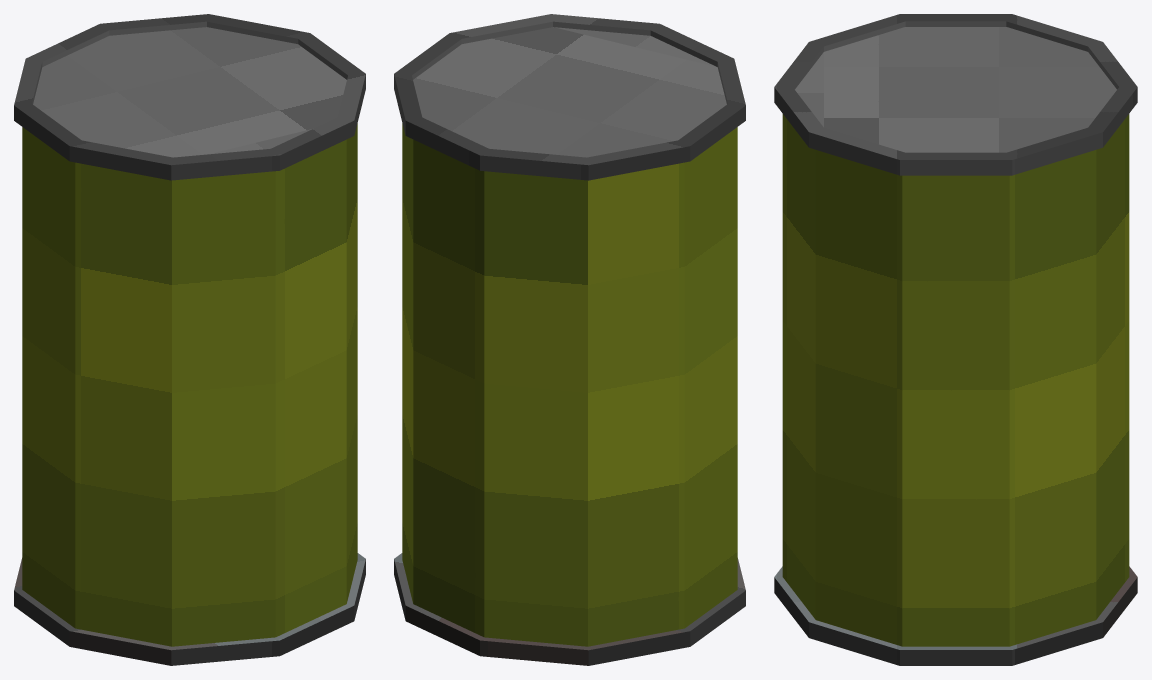
The model's file is lataZefir.fbx.
3 renders of one model, left to right at view 1: azimuth 30°, elevation 25°; view 2: azimuth 150°, elevation 25°; view 3: azimuth 270°, elevation 25°, orthographic.
Visible parts, largest first — view 1: Cylinder.006; view 2: Cylinder.006; view 3: Cylinder.006.
Boxes of the visible parts, left/top/right/bottom form: Cylinder.006: left=14, top=14, right=365, bottom=665; Cylinder.006: left=394, top=14, right=745, bottom=665; Cylinder.006: left=774, top=14, right=1137, bottom=665.
Size of the model in its own units: 17.96 by 29 by 18.89.
Materials: 1 (1 with a texture image).
